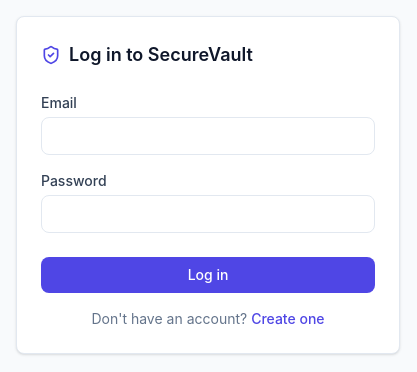
LoginPage › should_showTheMfaChallengeForm_when_loginReportsMfaRequired
The image size is (417, 372).
Type "dave@example.com" into the field labelled "Email".
click(208, 136); type("dave@example.com")  # box [41,117,375,155]
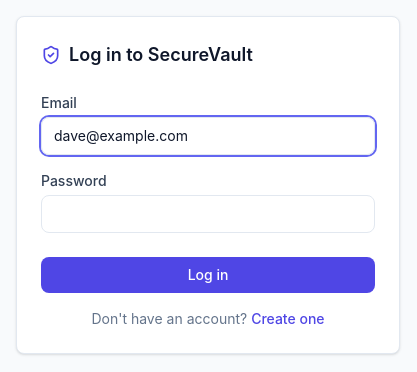
Type "Str0ng!Pass1" into the password field labelled "Password".
click(208, 214); type("Str0ng!Pass1")  # box [41,195,375,233]
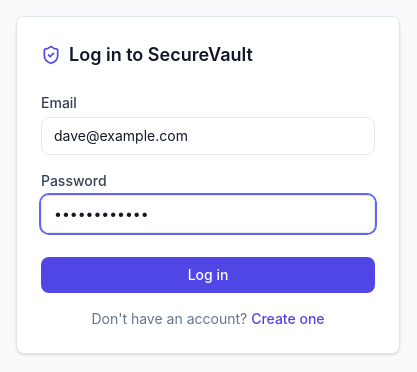
Click the button "Log in".
click(208, 275)  # box [41,257,375,293]
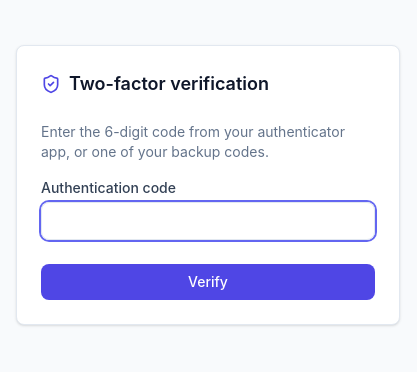
Check: the field labelled "Authentication code" is shown, box [41,202,375,240]
Check: the text "Two-factor verification" is shown, box [41,73,269,94]
